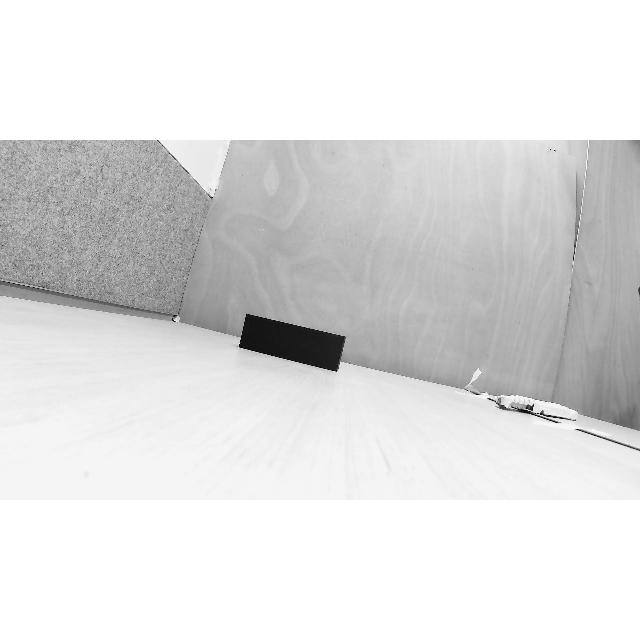targets: (237, 313, 346, 375), (478, 389, 584, 421)
